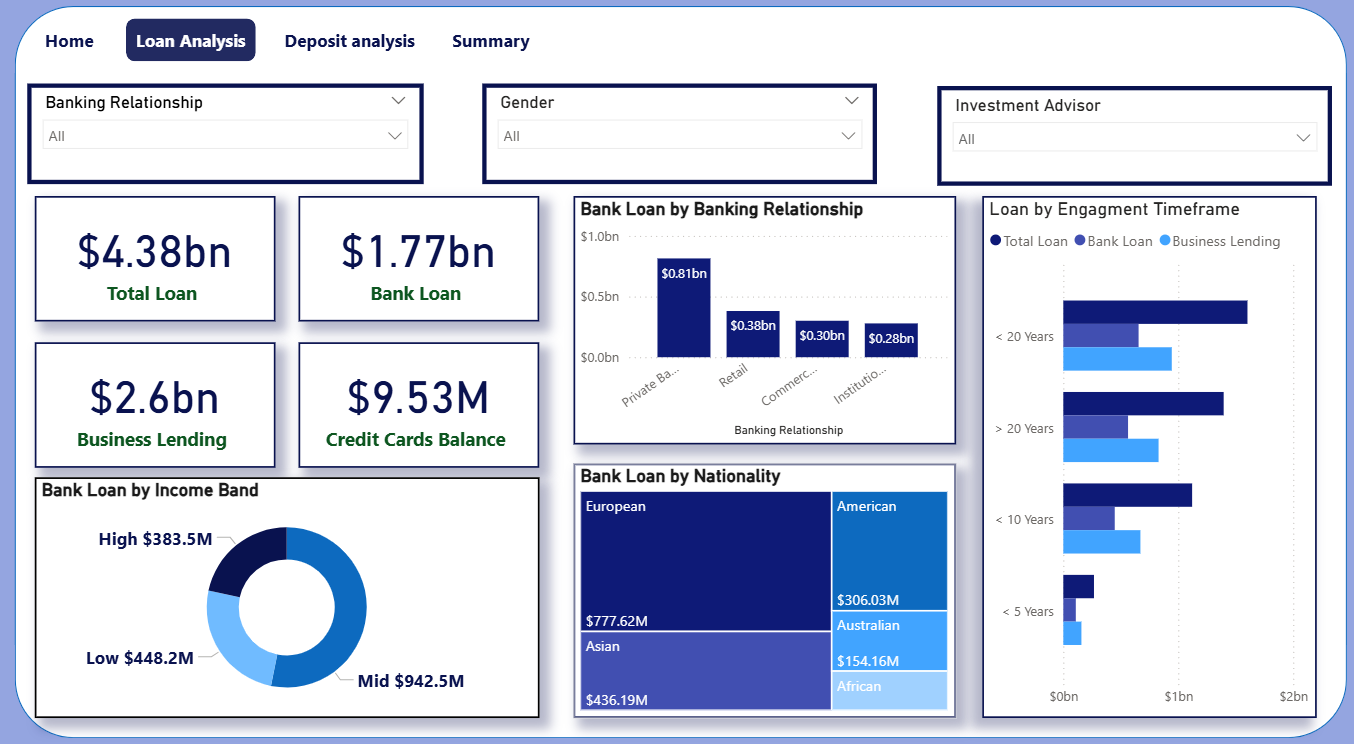

The page's visual inventory and layout, read from the dashboard file:
{"tool":"powerbi","page":{"name":"Loan Analysis","canvas":[1280,720],"ordinal":1},"visuals":[{"type":"shape","box":[21.7,18.8,1239.2,681.1],"z":0},{"type":"actionButton","box":[125.6,29.9,120.7,39.8],"z":1000},{"type":"actionButton","box":[419.2,29.9,90.8,39.8],"z":2000},{"type":"actionButton","box":[263.7,29.9,139.3,39.8],"z":3000},{"type":"actionButton","box":[41.1,29.9,64.7,39.8],"z":4000},{"type":"slicer","fields":{"Values":["Banking Relationship.Banking Relationship"]},"box":[33.3,91.1,368.7,94],"z":6000},{"type":"slicer","fields":{"Values":["Gender.Gender"]},"box":[456.9,91.1,367.3,94],"z":7000},{"type":"slicer","fields":{"Values":["Investment Advisor.Investment Advisor"]},"box":[880.6,92.5,367.3,92.5],"z":8000},{"type":"card","fields":{"Values":["Dax Measures.Total Loan"]},"box":[41.1,195.3,223.9,116.9],"z":9000},{"type":"card","fields":{"Values":["Dax Measures.Bank Loan"]},"box":[286.1,195.3,223.9,116.9],"z":10000},{"type":"card","fields":{"Values":["Dax Measures.Business Lending"]},"box":[41.1,330.9,223.9,116.9],"z":11000},{"type":"card","fields":{"Values":["Dax Measures.Credit Cards Balance"]},"box":[286.1,330.9,223.9,116.9],"z":12000},{"type":"donutChart","fields":{"Category":["Banking.Income Band"],"Y":["Dax Measures.Bank Loan"]},"box":[40.5,456.9,470,224.1],"z":13000},{"type":"columnChart","title":"Bank Loan by Banking Relationship ","fields":{"Category":["Banking Relationship.Banking Relationship"],"Y":["Dax Measures.Bank Loan"]},"box":[542.3,195.2,355.7,231.4],"z":14000},{"type":"treemap","title":"Bank Loan by Nationality ","fields":{"Group":["Banking.Nationality"],"Values":["Dax Measures.Bank Loan"]},"box":[542.3,443.9,355.7,237.1],"z":15000},{"type":"clusteredBarChart","title":"Loan by Engagment Timeframe","fields":{"Category":["Banking.Engagment Timeframe"],"Y":["Dax Measures.Total Loan","Dax Measures.Bank Loan","Dax Measures.Business Lending"]},"box":[922.6,195.2,310.9,485.9],"z":16000}]}

Visuals, with their boxes in screenshot pixels (x1, y1, x2, y2), scaled from the page's 1280x720 canvas onto the 1354x744 screenshot:
shape: [left=23, top=19, right=1334, bottom=723]
actionButton: [left=133, top=31, right=261, bottom=72]
actionButton: [left=443, top=31, right=539, bottom=72]
actionButton: [left=279, top=31, right=426, bottom=72]
actionButton: [left=43, top=31, right=112, bottom=72]
slicer - Banking Relationship.Banking Relationship: [left=35, top=94, right=425, bottom=191]
slicer - Gender.Gender: [left=483, top=94, right=872, bottom=191]
slicer - Investment Advisor.Investment Advisor: [left=932, top=96, right=1320, bottom=191]
card - Dax Measures.Total Loan: [left=43, top=202, right=280, bottom=323]
card - Dax Measures.Bank Loan: [left=303, top=202, right=539, bottom=323]
card - Dax Measures.Business Lending: [left=43, top=342, right=280, bottom=463]
card - Dax Measures.Credit Cards Balance: [left=303, top=342, right=539, bottom=463]
donutChart - Banking.Income Band x Dax Measures.Bank Loan: [left=43, top=472, right=540, bottom=704]
"Bank Loan by Banking Relationship " columnChart: [left=574, top=202, right=950, bottom=441]
"Bank Loan by Nationality " treemap: [left=574, top=459, right=950, bottom=704]
"Loan by Engagment Timeframe" clusteredBarChart: [left=976, top=202, right=1305, bottom=704]
